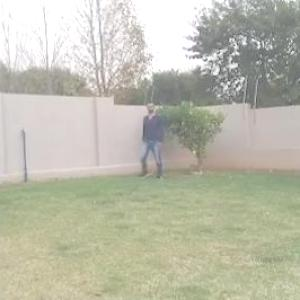follow: (143, 98, 164, 181)
